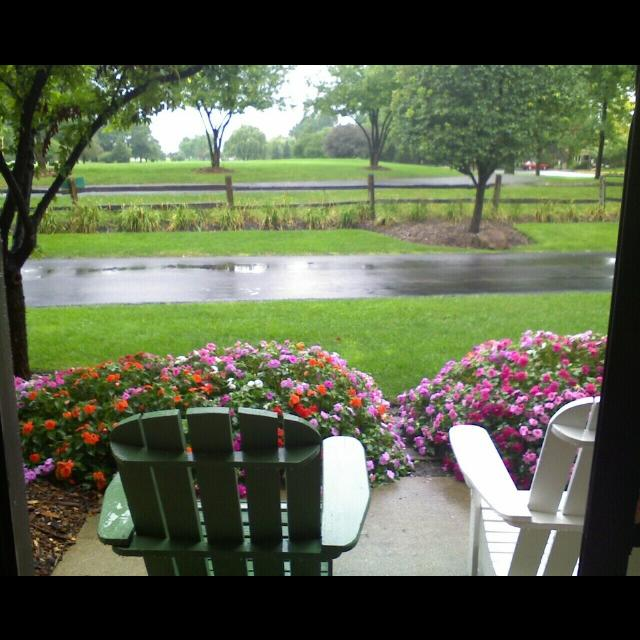Flower: (12, 338, 414, 498), (395, 330, 609, 490), (479, 393, 491, 403)
